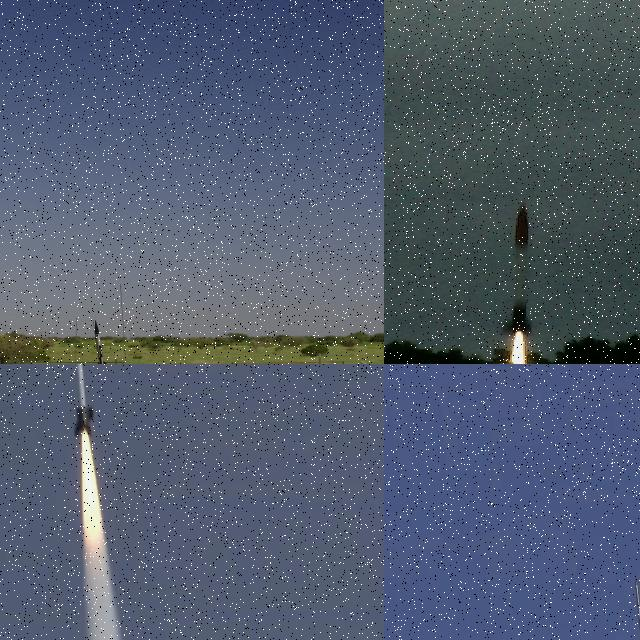Rocket: (508, 201, 534, 333), (71, 364, 94, 436), (94, 319, 112, 364), (635, 580, 640, 640)
